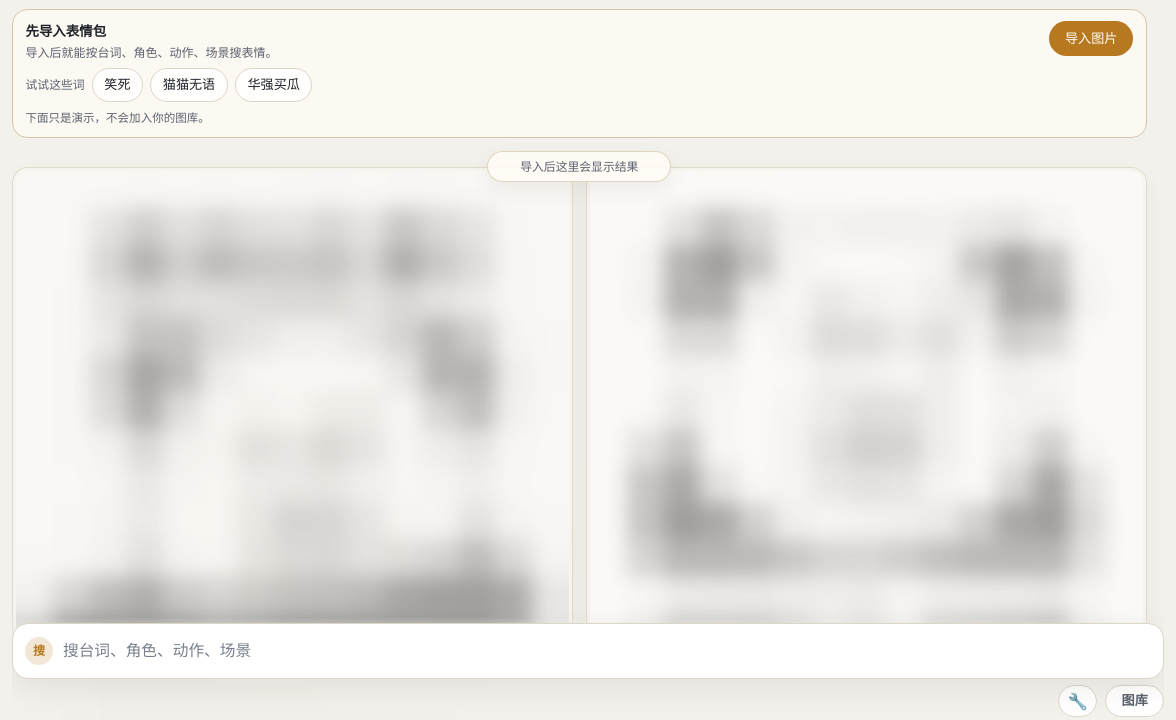
Test: SearchView 初始加载 › 冷启动时点击示例词不会直接发起搜索，而是提示先导入
The width and height of the screenshot is (1176, 720).
What coordinates should you click on to do the following:
click the button with test id "cold-start-example" showing "笑死"
I would click on:
 (117, 85)
Its box is [92,68,143,102].
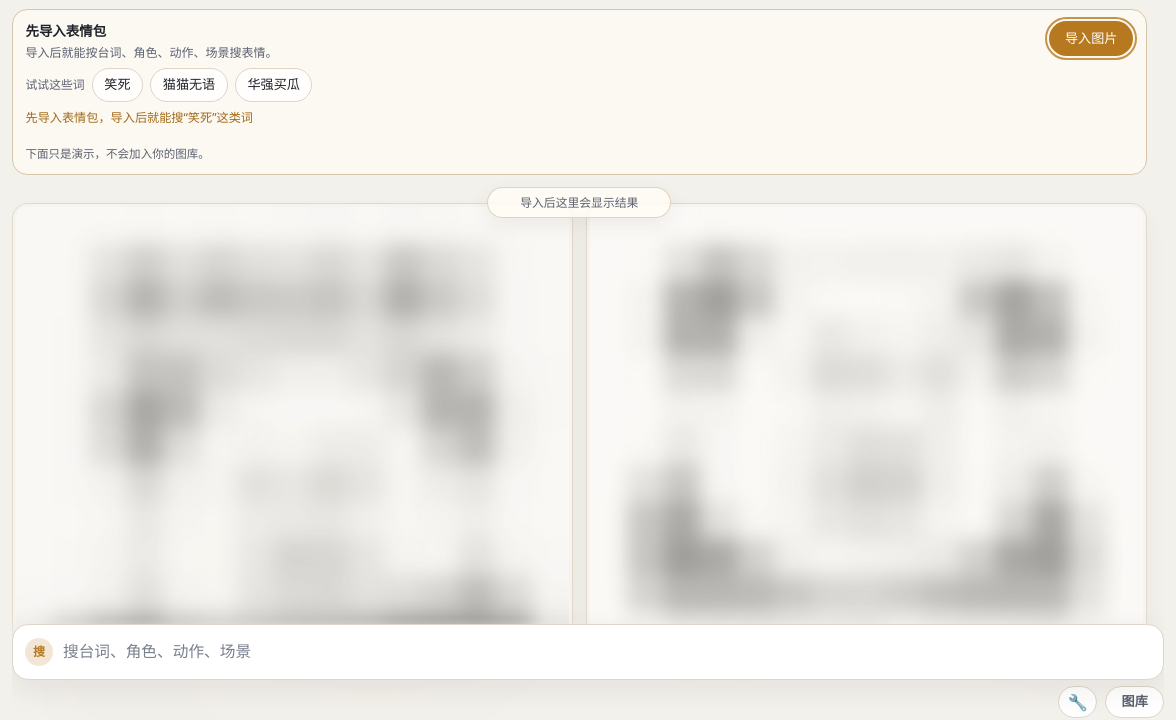
Expected: the text with test id "cold-start-hint" shows "先导入表情包", [26,108,253,126]
